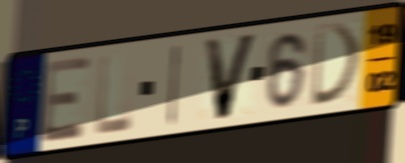6: (266, 29, 311, 112)
D: (309, 21, 364, 110)
E: (40, 53, 94, 146)
I: (165, 41, 183, 129)
L: (94, 50, 134, 139)
V: (202, 31, 261, 125)
